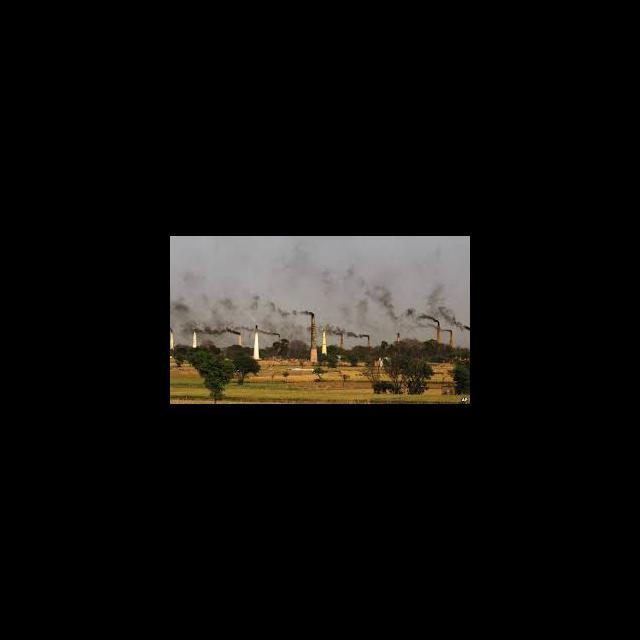Smoke: (324, 266, 398, 320), (172, 292, 222, 328), (440, 295, 470, 329), (268, 302, 304, 330)
